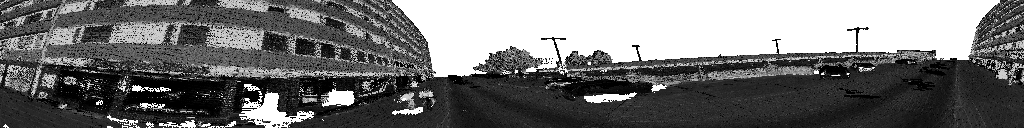gantry_sign_pole: (535, 58, 555, 63)
light_pole: (541, 38, 565, 73), (847, 27, 869, 50), (772, 39, 779, 53), (637, 49, 639, 57)
